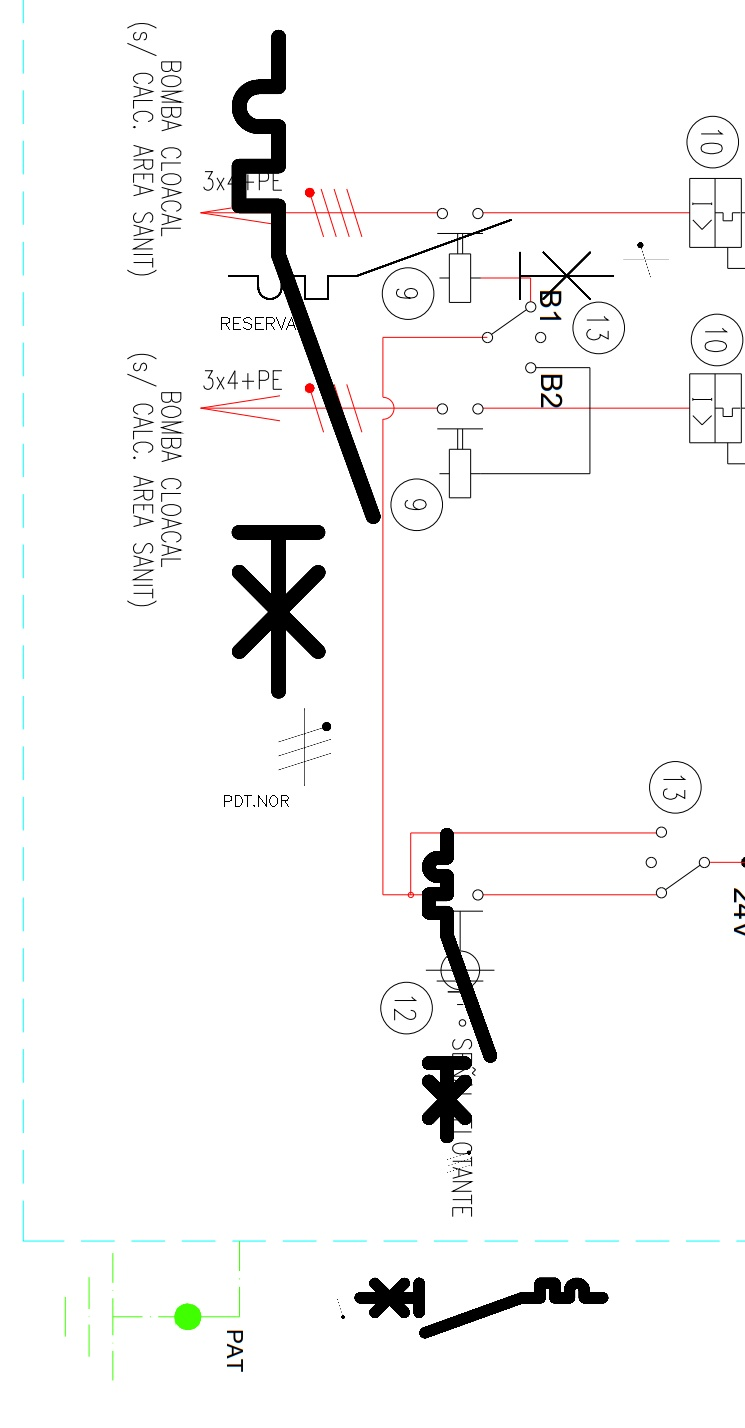interruptor_termomagnetico: (222, 20, 390, 707), (219, 210, 623, 309), (421, 827, 498, 1144), (353, 1277, 608, 1339)
